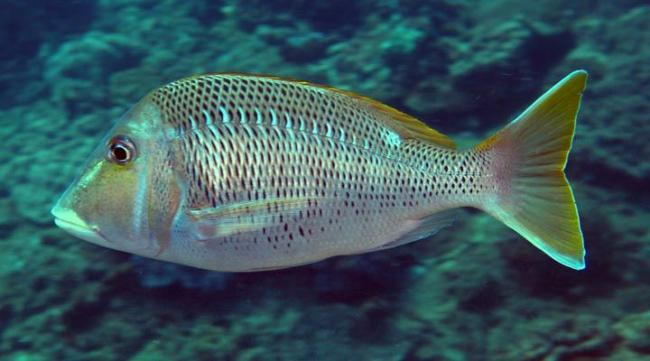fish: (50, 68, 587, 271)
